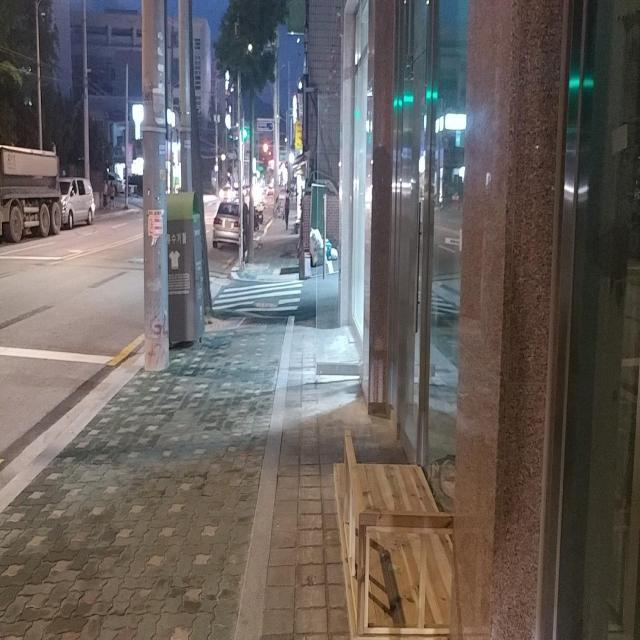횡단보도: (212, 279, 304, 312)
